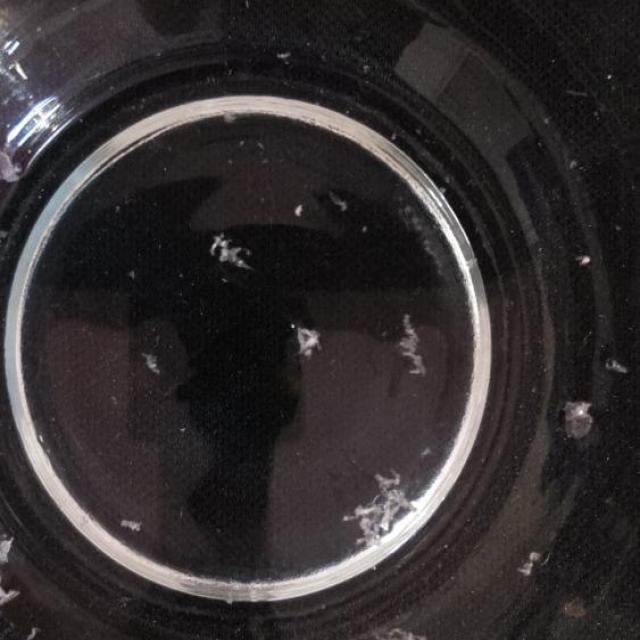fiber: (334, 476, 424, 538), (396, 314, 428, 388), (212, 231, 254, 280), (0, 116, 31, 176), (290, 310, 327, 359), (563, 390, 597, 442), (0, 524, 15, 609), (516, 541, 541, 585), (375, 620, 426, 639), (122, 509, 150, 542), (141, 346, 163, 380)
